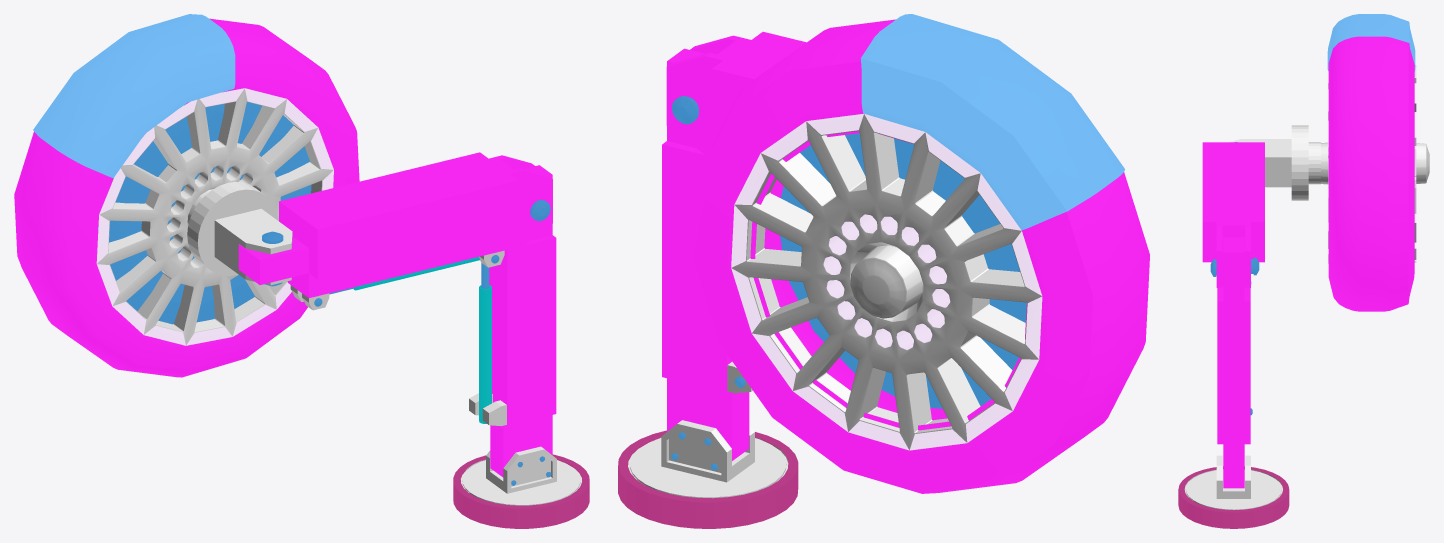
The picture shows the model from 3 angles, left to right: view 1: azimuth 30°, elevation 25°; view 2: azimuth 150°, elevation 25°; view 3: azimuth 270°, elevation 25°; orthographic projection. The views are drawn at different scales.
Visible parts, largest first — view 1: ban_2.050, ban_2.052, Plane.085, ban_2.047, Cube.015, ban_2.051, Plane.084, Circle.192, Circle.193, Plane.089, Cylinder.055, Plane.086; view 2: ban_2.053, ban_2.050, ban_2.047, Cube.015, Plane.084, Plane.085, Circle.192, ban_2.051, Circle.203; view 3: ban_2.050, Plane.085, Cube.015, Plane.084, Circle.192, ban_2.047, Circle.193, Plane.089, ban_2.053, ban_2.052.
Part boxes in pixels (<box>): ban_2.050: <box>14,18,359,377</box>; ban_2.052: <box>96,88,333,345</box>; Plane.085: <box>238,152,552,297</box>; ban_2.047: <box>33,14,235,178</box>; Cube.015: <box>489,165,556,477</box>; ban_2.051: <box>98,90,311,324</box>; Plane.084: <box>460,446,581,505</box>; Circle.192: <box>453,454,589,528</box>; Circle.193: <box>187,182,277,275</box>; Plane.089: <box>214,208,292,285</box>; Cylinder.055: <box>353,257,491,423</box>; Plane.086: <box>469,393,506,426</box>; ban_2.053: <box>731,113,1042,450</box>; ban_2.050: <box>693,19,1149,493</box>; ban_2.047: <box>860,14,1124,230</box>; Cube.015: <box>662,48,749,460</box>; Plane.084: <box>628,420,788,498</box>; Plane.085: <box>666,31,806,155</box>; Circle.192: <box>618,430,798,528</box>; ban_2.051: <box>780,133,1026,408</box>; Circle.203: <box>672,96,698,124</box>; ban_2.050: <box>1328,36,1414,311</box>; Plane.085: <box>1202,142,1264,287</box>; Cube.015: <box>1217,237,1250,488</box>; Plane.084: <box>1184,455,1283,509</box>; Circle.192: <box>1178,466,1289,528</box>; ban_2.047: <box>1327,14,1415,71</box>; Circle.193: <box>1291,125,1320,200</box>; Plane.089: <box>1229,139,1291,187</box>; ban_2.053: <box>1414,64,1429,262</box>; ban_2.052: <box>1321,71,1328,263</box>.
Bounding box in the file's own units: 22.62 × 21.78 × 13.01.
